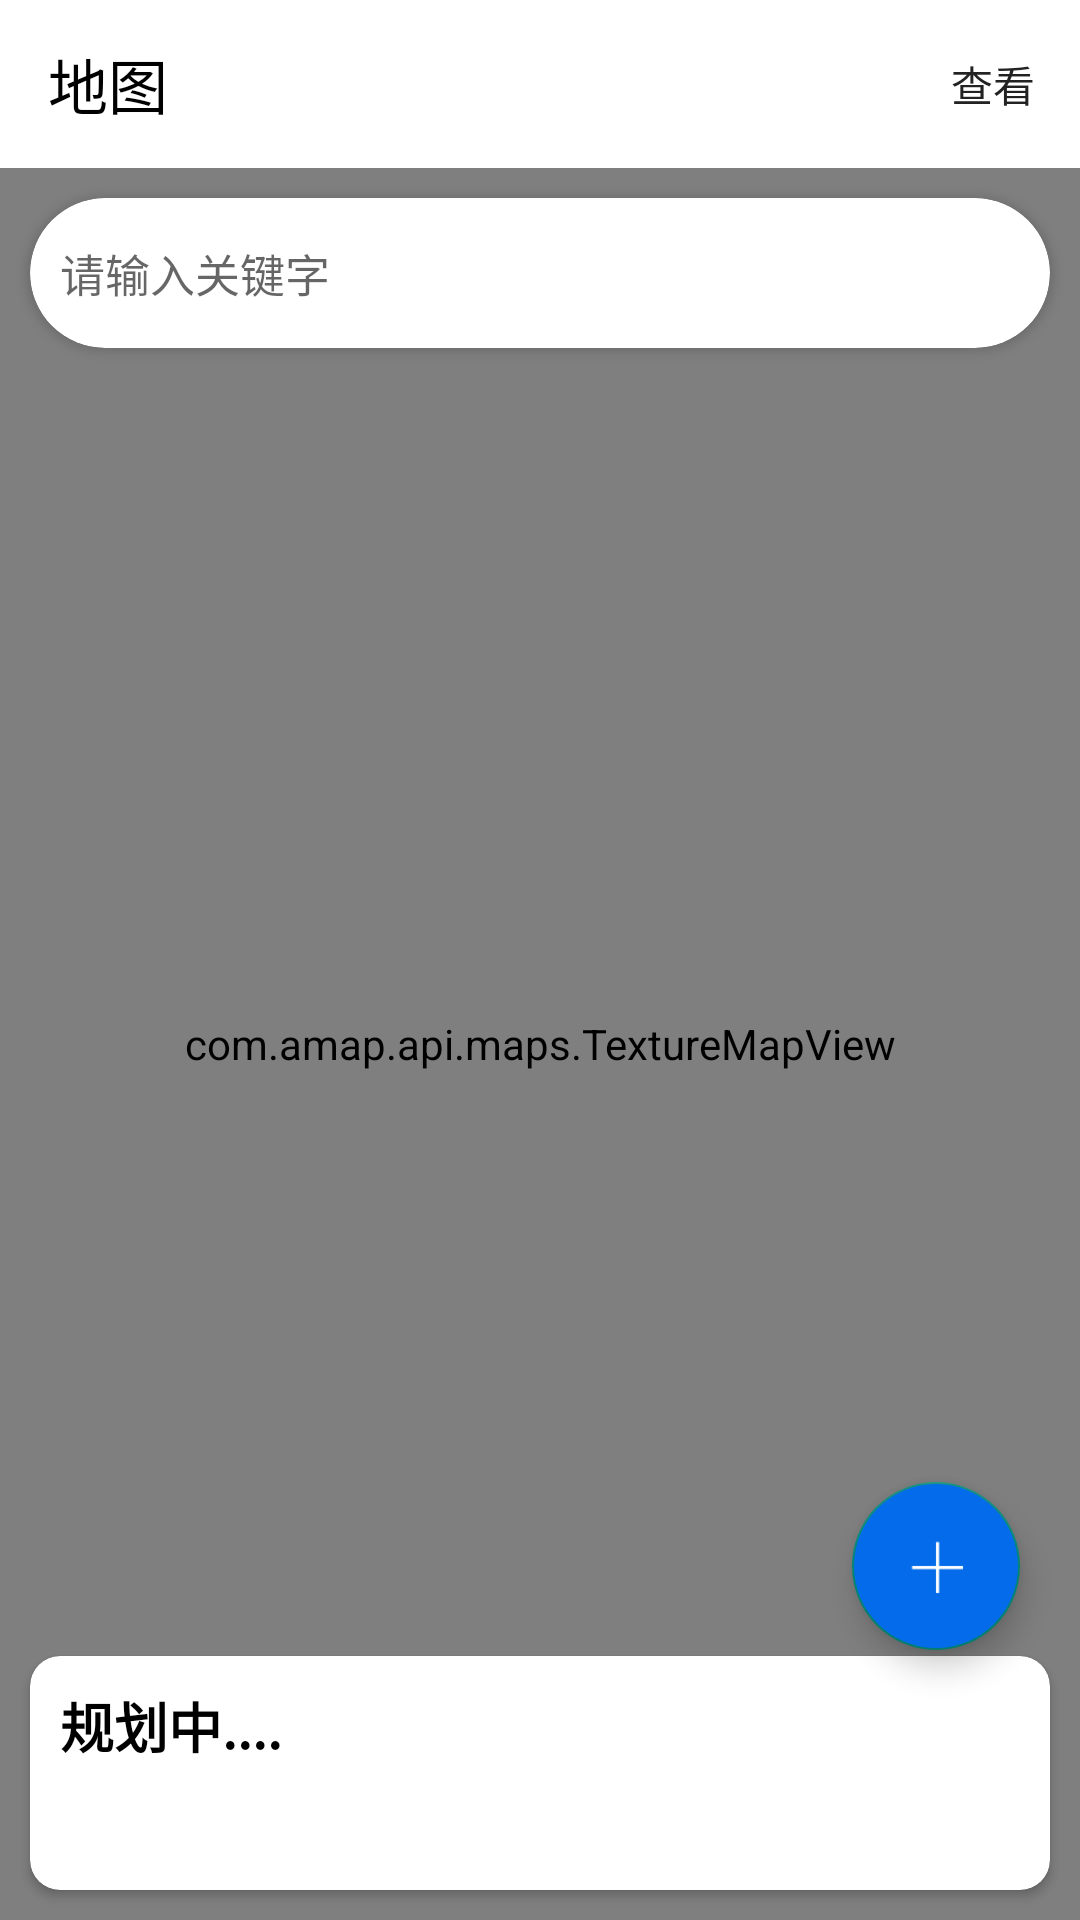

Icon click points for this 1080*1920 phone screenshot, format [x,y]:
add: [936,1566]
